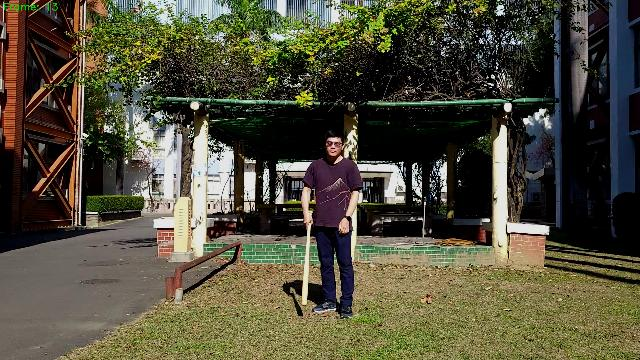bat: (302, 222, 310, 306)
